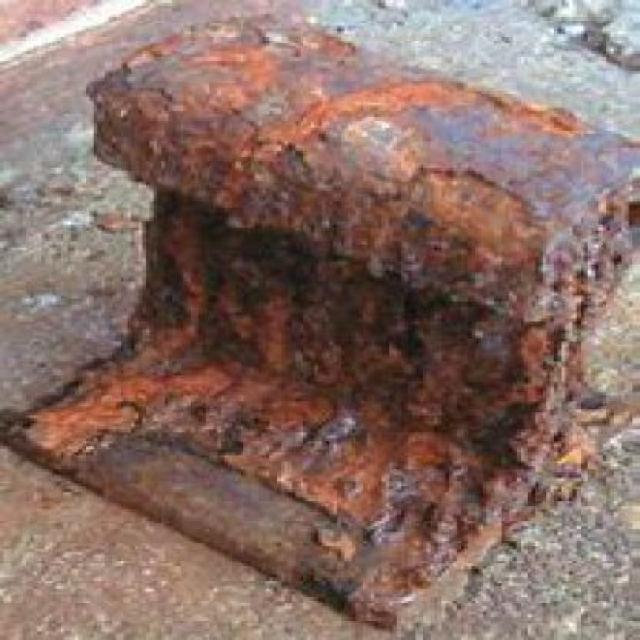defective: (0, 1, 638, 636)
